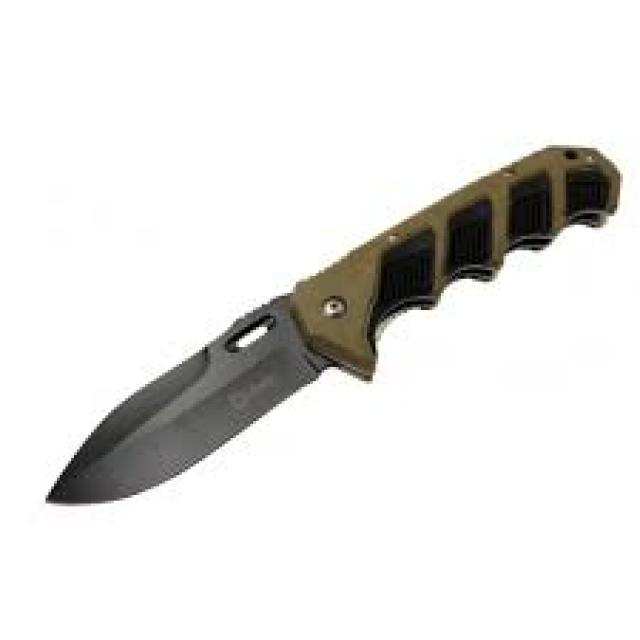knives: (37, 134, 626, 512)
